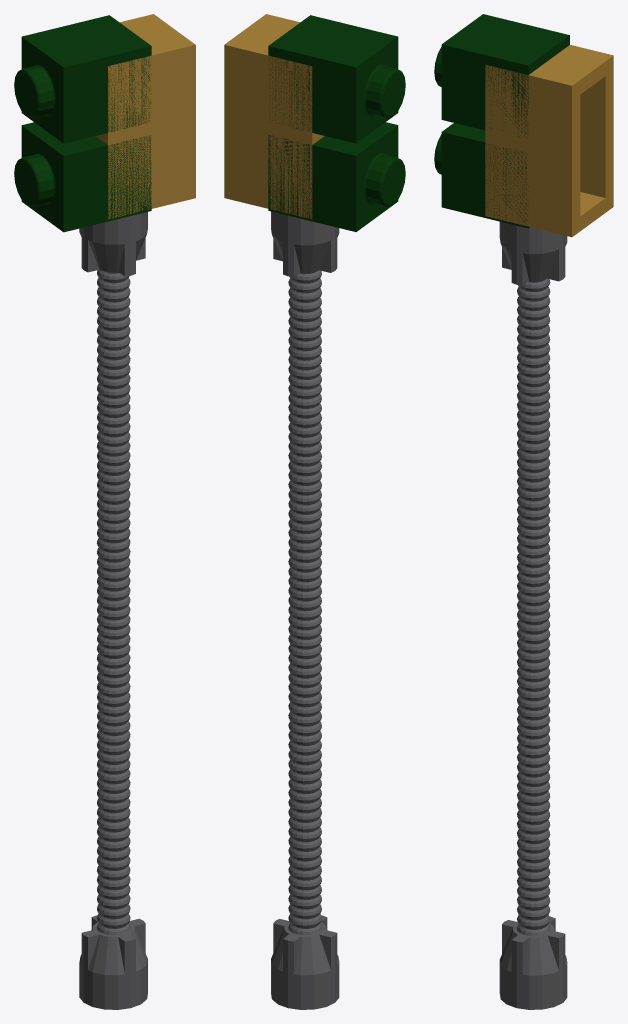
Rendered from Gate Controller.dae.
3 views of the same model, side by side, from view 1: azimuth 30°, elevation 25°; view 2: azimuth 150°, elevation 25°; view 3: azimuth 330°, elevation 25° (orthographic).
Parts seen in each view (by area): view 1: Part.0, Part.1, Part.2, Part.3; view 2: Part.0, Part.1, Part.2, Part.3; view 3: Part.0, Part.1, Part.2, Part.3.
Part boxes in pixels (bbox=[...]): Part.0: bbox=[79, 212, 147, 1009]; Part.1: bbox=[95, 14, 195, 218]; Part.2: bbox=[14, 15, 151, 143]; Part.3: bbox=[14, 122, 151, 232]; Part.0: bbox=[271, 211, 339, 1009]; Part.1: bbox=[224, 14, 324, 219]; Part.2: bbox=[268, 15, 405, 143]; Part.3: bbox=[268, 122, 405, 231]; Part.0: bbox=[499, 221, 567, 1009]; Part.1: bbox=[485, 45, 613, 237]; Part.2: bbox=[434, 14, 569, 137]; Part.3: bbox=[434, 123, 529, 228].
Bounding box in the file's own units: 16.18 × 99.76 × 7.92.
